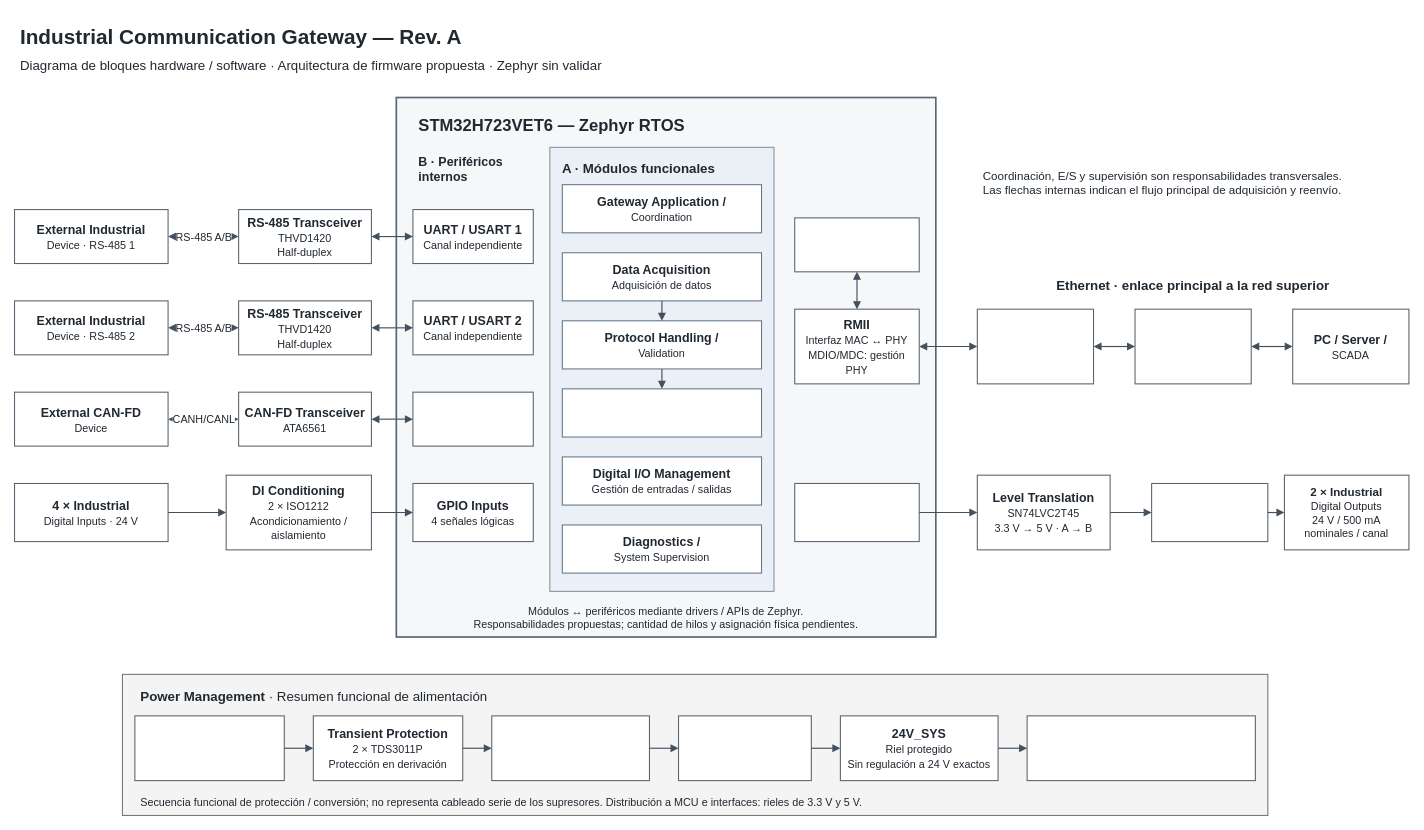
The diagram is 1424 pixels wide and 830 high, and some of its shapes have lost their labels. The centre of each missing label's shape, as x and y in pixels:
3.3 V / 5 V Buck Converters 2 × LMR36015 Uno por riel: the point at 1141,748
Data Routing / Ethernet Forwarding: the point at 661,412
Dual 18–30 VDC Inputs Adaptador / gabinete: the point at 209,748
eFuse NIS3071MT4TWG 1 canal: the point at 744,748
Ethernet MAC Integrado en MCU: the point at 856,244
Ethernet Magnetics / RJ45: the point at 1192,346
Ethernet PHY DP83826I 10/100 Mb/s: the point at 1035,346
FDCAN Controlador CAN-FD: the point at 472,418
GPIO Outputs 2 señales de control: the point at 856,512
Ideal-Diode OR-ing 2 × LTC4414 + 2 × DMP6023LSS-13: the point at 570,748
Low-side Switching 2 × BSP75N: the point at 1209,512
